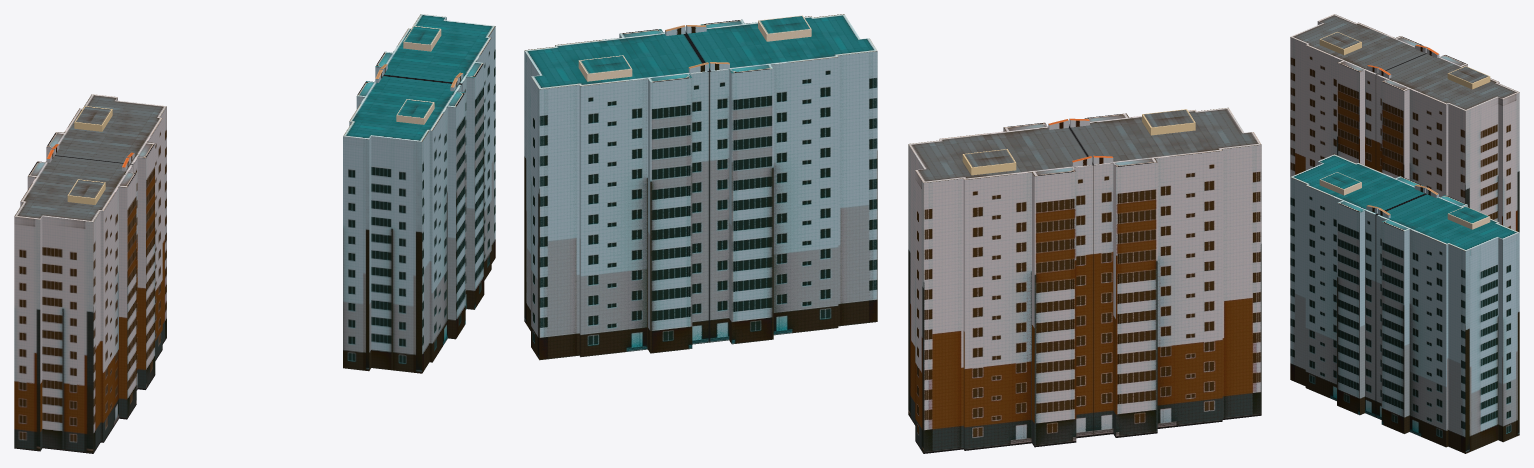
The picture shows the model from 3 angles, left to right: view 1: azimuth 30°, elevation 25°; view 2: azimuth 150°, elevation 25°; view 3: azimuth 270°, elevation 25°; orthographic projection. The views are drawn at different scales.
Visible parts, largest first — view 1: Dom_low01, Dom_low02; view 2: Dom_low02, Dom_low01; view 3: Dom_low01, Dom_low02.
Part boxes in pixels (box(x1,y1,x2,y2)): Dom_low01: box(343, 14, 495, 373); Dom_low02: box(14, 94, 166, 453); Dom_low02: box(908, 107, 1261, 453); Dom_low01: box(524, 14, 877, 360); Dom_low01: box(1290, 154, 1519, 453); Dom_low02: box(1290, 14, 1519, 232).
Size of the model in its own units: 7339 by 3005 by 3001.
